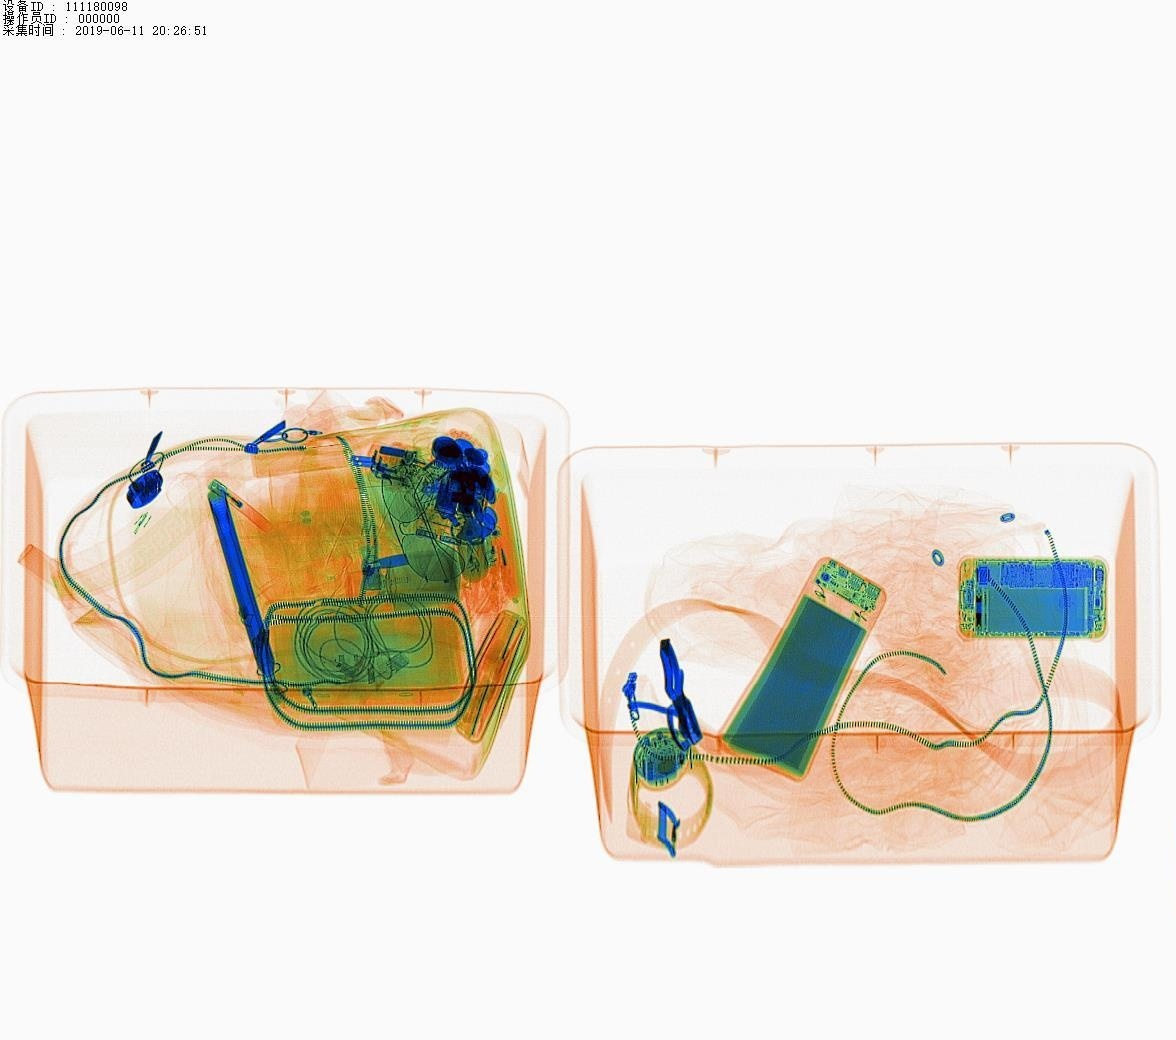NonmetallicFire: (197, 463, 310, 559)
